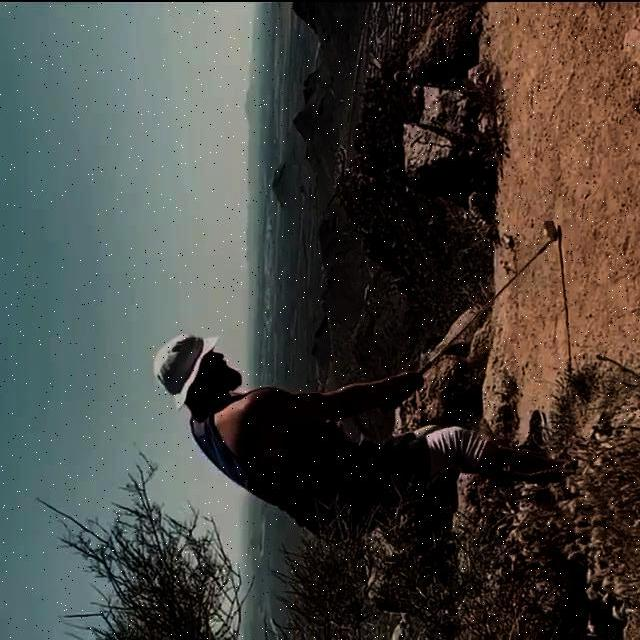golf ball: (543, 227, 547, 235)
golf club-handle: (380, 219, 559, 411)
golf club-head: (545, 219, 559, 240)
